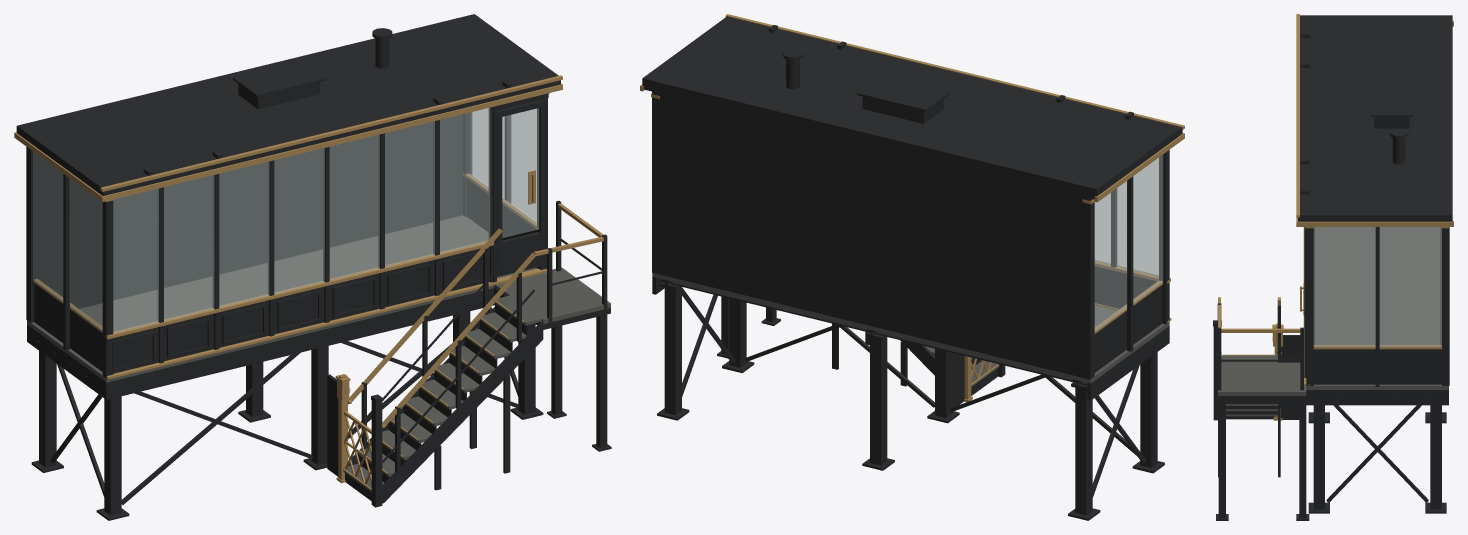
File: booth.glb
3 renders of one model, left to right at view 1: azimuth 30°, elevation 25°; view 2: azimuth 150°, elevation 25°; view 3: azimuth 270°, elevation 25°, orthographic. The views are drawn at different scales.
Visible parts, largest first — view 1: booth, IA_booth_gate; view 2: booth; view 3: booth.
Boxes of the visible parts, x1,y1,x2,y2 form: booth: (14, 14, 611, 520); IA_booth_gate: (335, 374, 371, 484); booth: (640, 14, 1184, 520); booth: (1213, 14, 1453, 520).
Size of the model in its own units: 6.74 by 5.16 by 3.38.
